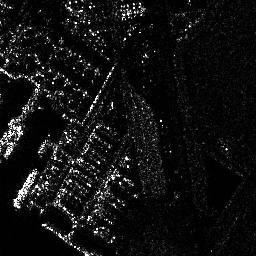ship: (12, 167, 39, 209), (5, 125, 24, 159)
